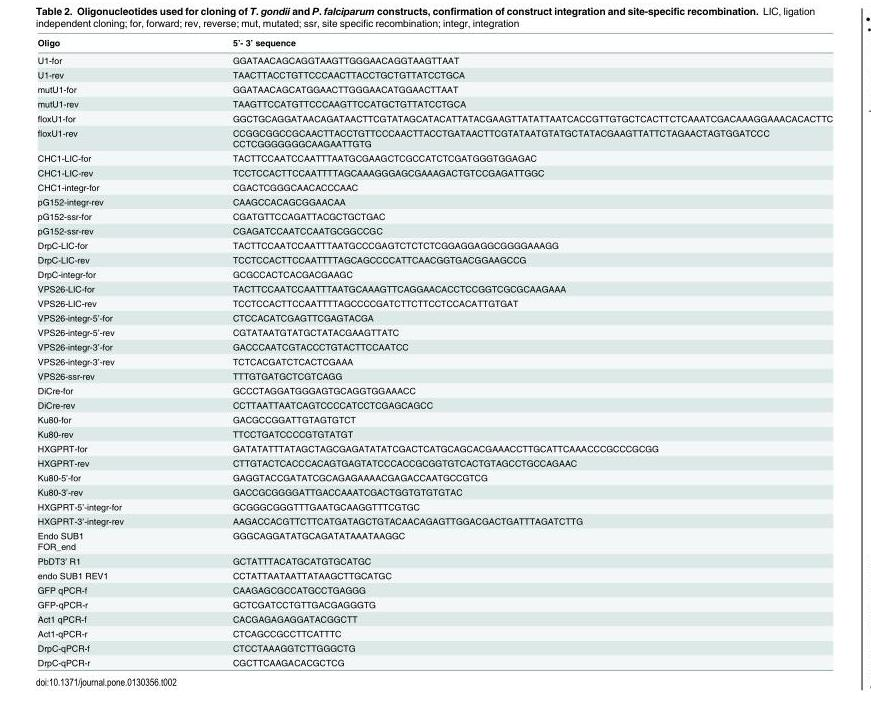table: (37, 36, 833, 667)
table column: (178, 36, 833, 667), (37, 36, 178, 667)
table column header: (37, 36, 833, 51)
table row: (37, 527, 833, 553), (37, 125, 833, 150), (37, 51, 833, 67), (37, 36, 833, 51), (37, 81, 833, 96), (37, 110, 833, 125), (37, 164, 833, 179), (37, 179, 833, 194), (37, 208, 833, 223), (37, 237, 833, 252), (37, 266, 833, 281), (37, 295, 833, 310), (37, 324, 833, 339), (37, 353, 833, 368), (37, 382, 833, 397), (37, 411, 833, 426), (37, 440, 833, 455), (37, 469, 833, 484), (37, 498, 833, 513), (37, 567, 833, 582), (37, 596, 833, 611), (37, 625, 833, 640), (37, 67, 833, 81), (37, 96, 833, 110), (37, 150, 833, 164), (37, 194, 833, 208), (37, 223, 833, 237), (37, 252, 833, 266), (37, 281, 833, 295), (37, 310, 833, 324), (37, 339, 833, 353), (37, 368, 833, 382), (37, 397, 833, 411), (37, 426, 833, 440), (37, 455, 833, 469), (37, 484, 833, 498), (37, 513, 833, 527), (37, 553, 833, 567), (37, 582, 833, 596), (37, 611, 833, 625), (37, 640, 833, 654), (37, 654, 833, 667)
